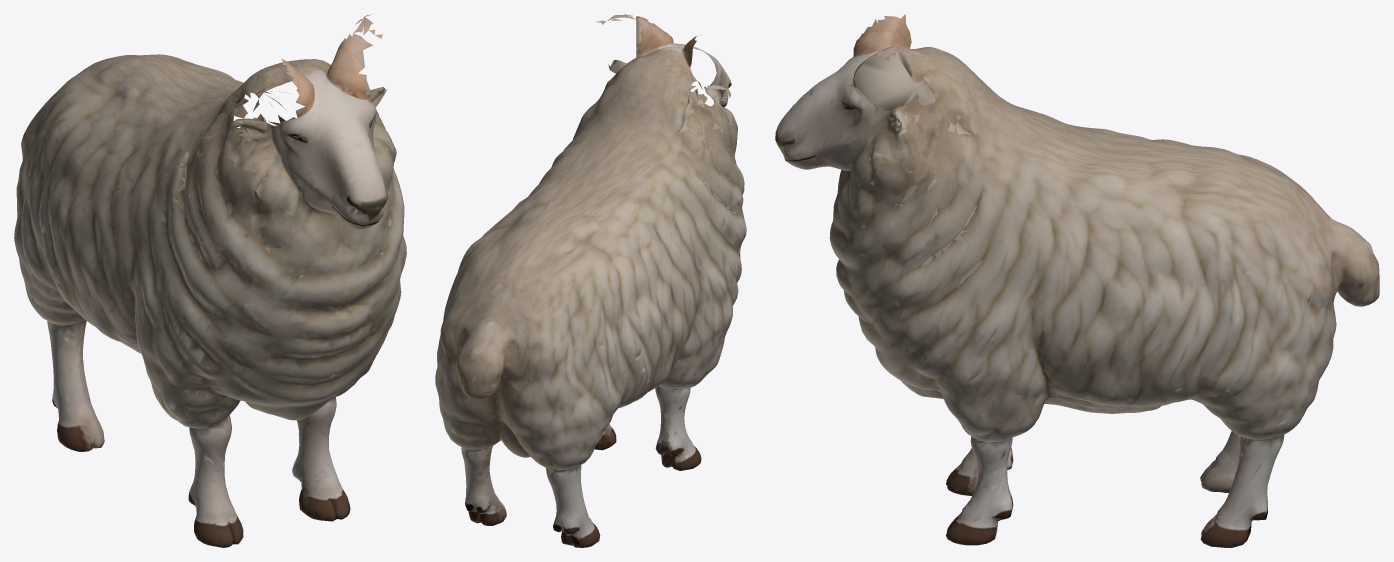
File: oveja_hembra.glb
The picture shows the model from 3 angles, left to right: view 1: azimuth 30°, elevation 25°; view 2: azimuth 150°, elevation 25°; view 3: azimuth 270°, elevation 25°; orthographic projection. The views are drawn at different scales.
Parts seen in each view (by area): view 1: oveja_hembra; view 2: oveja_hembra; view 3: oveja_hembra.
Part boxes in pixels (x1,y1,x2,y2): oveja_hembra: (14, 14, 406, 547); oveja_hembra: (435, 14, 746, 547); oveja_hembra: (775, 14, 1379, 547).
Size of the model in its own units: 0.4256 by 0.8791 by 0.9839.
1 material, 1 textured.
